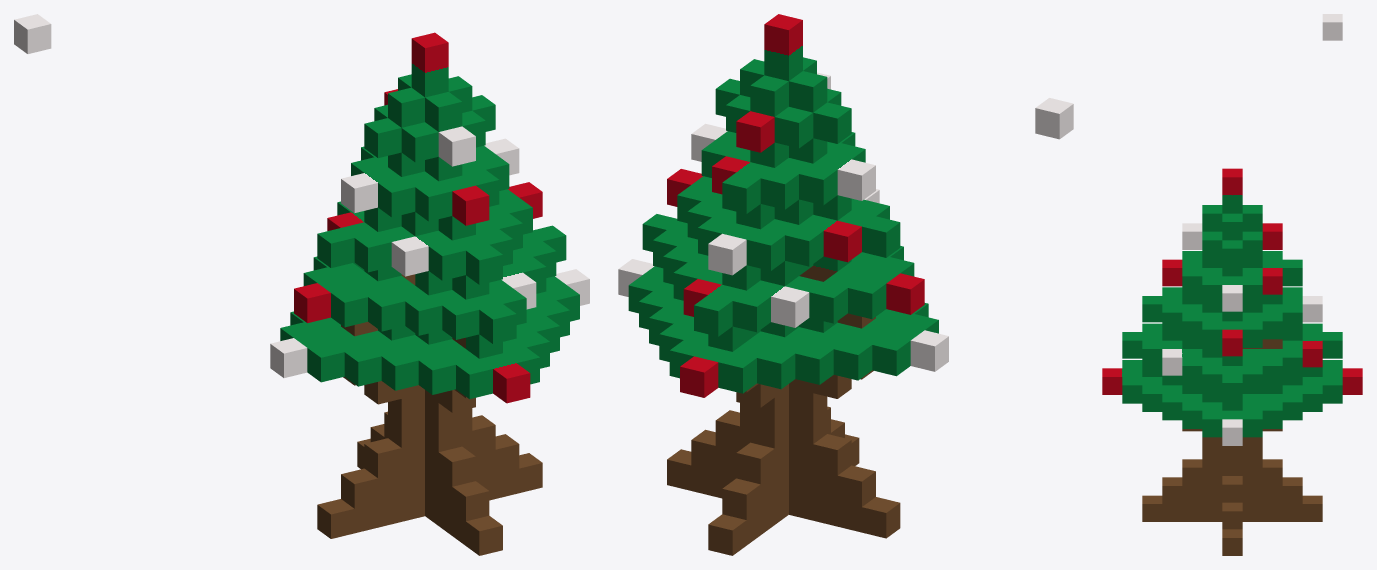
File: tree.obj
3 views of the same model, side by side, from view 1: azimuth 30°, elevation 25°; view 2: azimuth 150°, elevation 25°; view 3: azimuth 270°, elevation 25° (orthographic). The views are drawn at different scales.
Parts seen in each view (by area): view 1: Model; view 2: Model; view 3: Model.
Boxes of the visible parts, x1,y1,x2,y2 form: Model: [14, 14, 589, 555]; Model: [618, 14, 1073, 555]; Model: [1102, 14, 1362, 555].
Size of the model in its own units: 21 by 21 by 13.
1 material, 1 textured.
